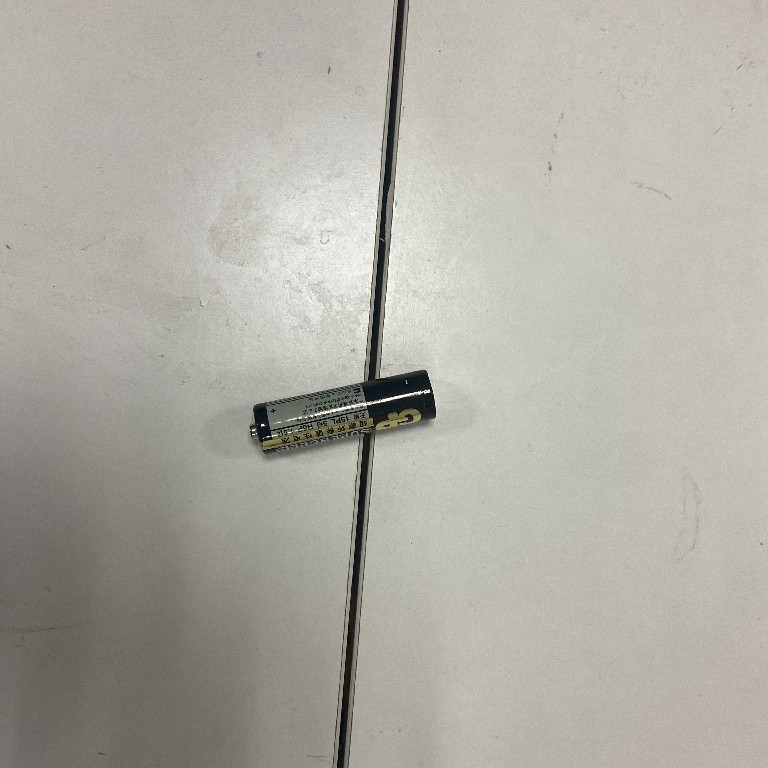charge: (246, 367, 442, 463)
